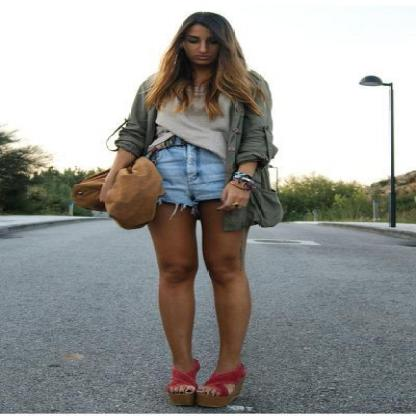bag: (70, 158, 169, 229)
jacket: (112, 92, 287, 235)
shirt: (148, 79, 230, 155)
shoe: (170, 364, 248, 407)
shorts: (156, 134, 233, 207)
